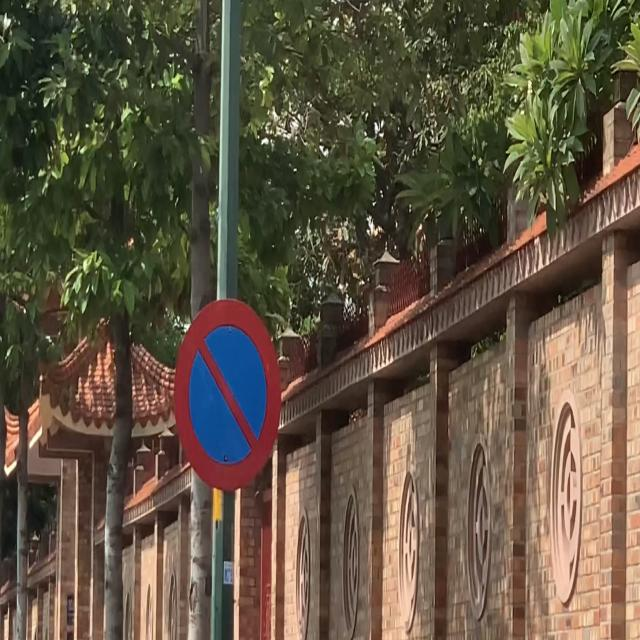Cam do: (167, 292, 286, 499)
